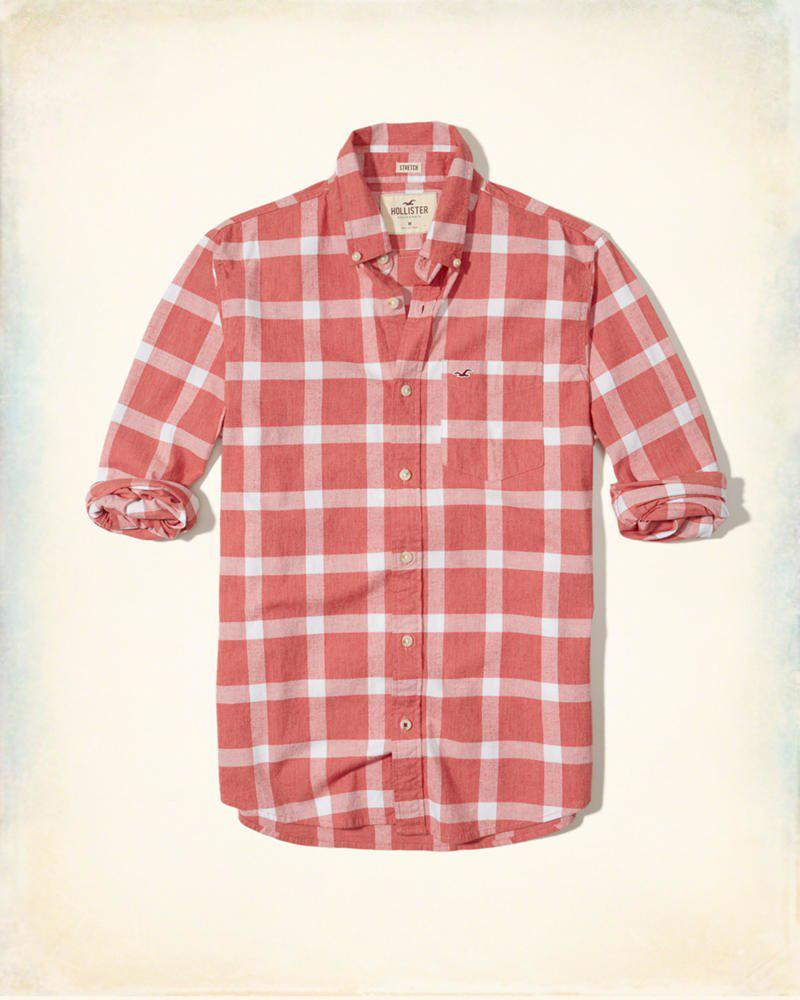teeshirt: (80, 115, 750, 839)
